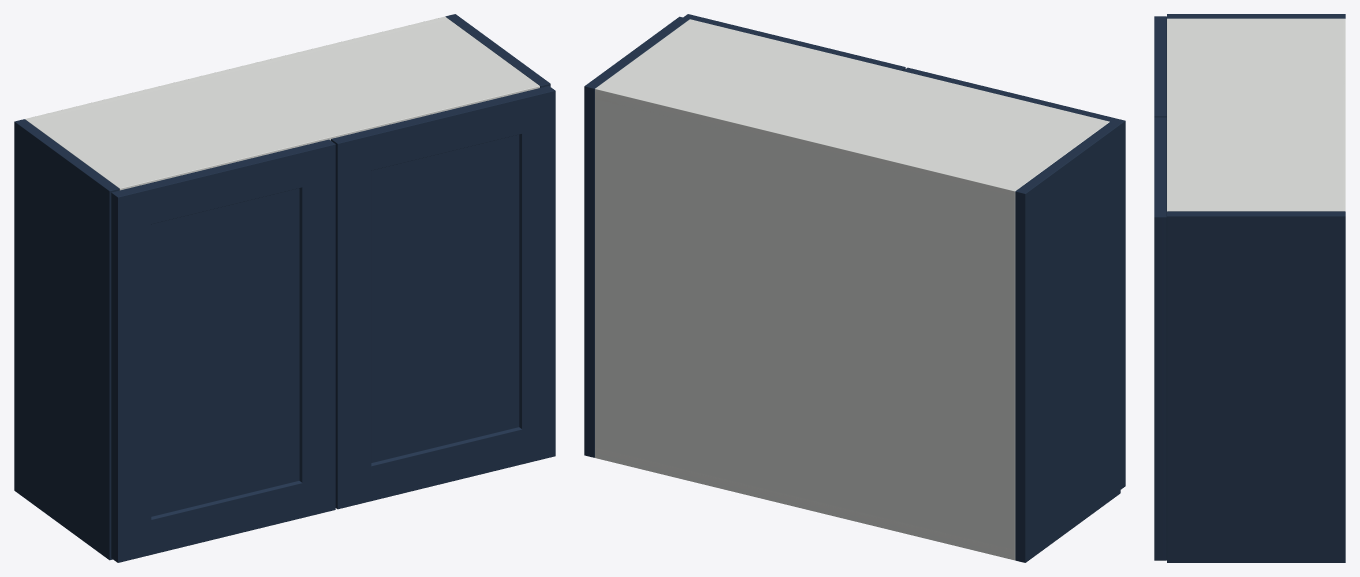
File: oppein-pb-bss-w3024.glb
3 views of the same model, side by side, from view 1: azimuth 30°, elevation 25°; view 2: azimuth 150°, elevation 25°; view 3: azimuth 270°, elevation 25° (orthographic). The views are drawn at different scales.
Parts seen in each view (by area): view 1: Door, Door.001, Cabinet top, Cabinet side, Cabinet back, Cabinet side.001; view 2: Cabinet back, Cabinet top, Cabinet side, Cabinet side.001, Door, Cabinet bottom, Door.001; view 3: Cabinet side.001, Cabinet top, Door.001, Cabinet back, Door, Cabinet side.
Part boxes in pixels (bbox=[...]): Door: bbox=[111, 139, 335, 562]; Door.001: bbox=[331, 86, 555, 509]; Cabinet top: bbox=[25, 17, 539, 190]; Cabinet side: bbox=[14, 119, 119, 560]; Cabinet back: bbox=[25, 16, 448, 121]; Cabinet side.001: bbox=[445, 14, 550, 87]; Cabinet back: bbox=[595, 86, 1018, 560]; Cabinet top: bbox=[595, 19, 1109, 200]; Cabinet side: bbox=[1015, 122, 1120, 562]; Cabinet side.001: bbox=[584, 16, 689, 457]; Door: bbox=[903, 67, 1125, 489]; Cabinet bottom: bbox=[595, 447, 1014, 558]; Door.001: bbox=[683, 14, 905, 70]; Cabinet side.001: bbox=[1167, 211, 1345, 562]; Cabinet top: bbox=[1167, 18, 1345, 211]; Door.001: bbox=[1154, 117, 1166, 560]; Cabinet back: bbox=[1338, 18, 1345, 211]; Door: bbox=[1154, 16, 1166, 117]; Cabinet side: bbox=[1167, 14, 1345, 18].
Size of the model in its own units: 0.762 by 0.6096 by 0.3048.
